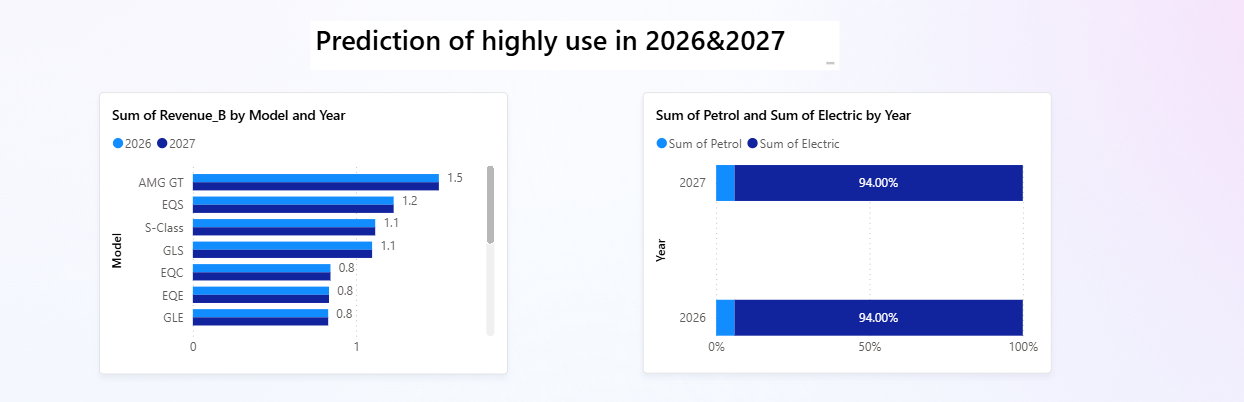

The dashboard page shown, as its layout file describes it:
{"tool":"powerbi","page":{"name":"Page 4","canvas":[1280,720],"ordinal":3},"visuals":[{"type":"clusteredBarChart","fields":{"Category":["PBI_04_Revenue_Forecast.Model"],"Y":["Sum(PBI_04_Revenue_Forecast.Revenue_B)"],"Series":["PBI_04_Revenue_Forecast.Year"]},"box":[107,94,400,276],"z":0},{"type":"hundredPercentStackedBarChart","fields":{"Y":["Sum(PBI_05_Fuel_Forecast.Petrol)","Sum(PBI_05_Fuel_Forecast.Electric)"],"Category":["PBI_05_Fuel_Forecast.Year"]},"box":[640,94.4,400,275.6],"z":1000},{"type":"textbox","title":"Prediction of highly use in 2026&2027","box":[314.4,24.4,517.8,47.8],"z":2000}]}

Visuals, with their boxes on the page's 1280x720 design canvas (x1, y1, x2, y2). These are canvas units, not pixel positions in the 1244x402 screenshot, which may show the page scaled, cropped or inside an application window:
clusteredBarChart - PBI_04_Revenue_Forecast.Model x Sum(PBI_04_Revenue_Forecast.Revenue_B): (left=107, top=94, right=507, bottom=370)
hundredPercentStackedBarChart - Sum(PBI_05_Fuel_Forecast.Petrol) x Sum(PBI_05_Fuel_Forecast.Electric): (left=640, top=94, right=1040, bottom=370)
"Prediction of highly use in 2026&2027" textbox: (left=314, top=24, right=832, bottom=72)
